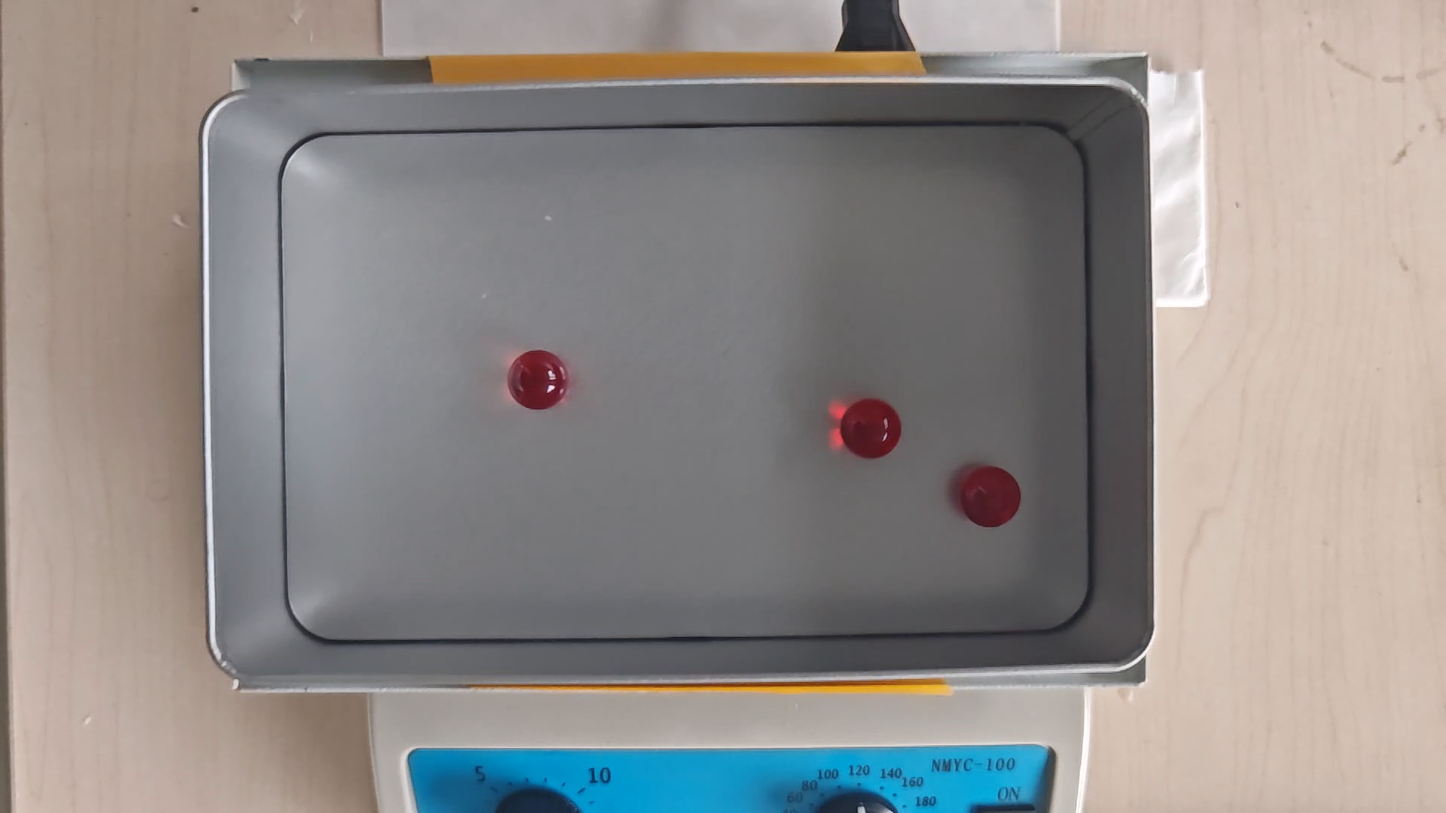ball: (962, 465, 1021, 528), (842, 399, 901, 460), (508, 350, 566, 410)
container: (279, 131, 1089, 638)
